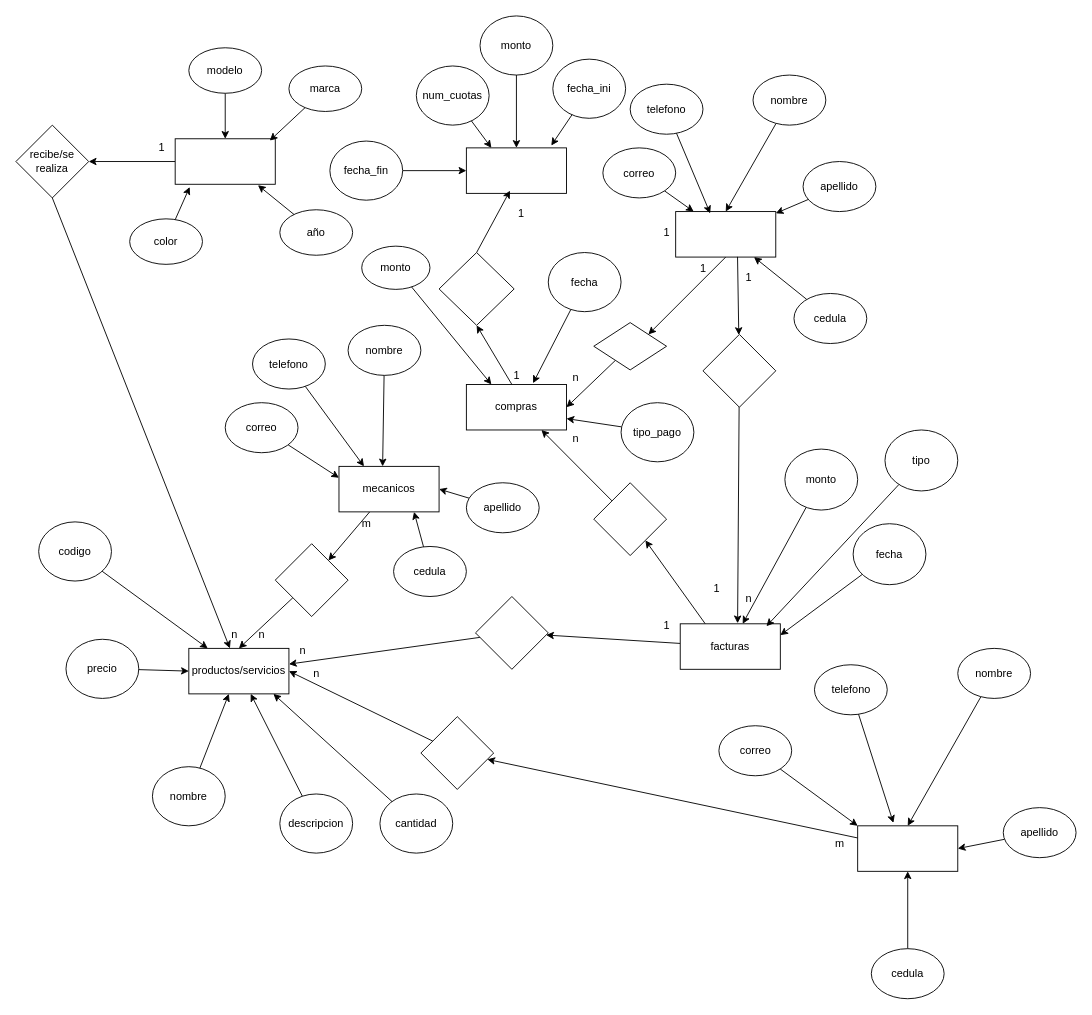
The diagram is 1092 pixels wide and 1015 high, and some of its shapes have lost their labels. Here are the shapes that lost their labels. From the top down, the centre of each, then its label:
point 224,161: automoviles
point 515,170: financiamientos
point 725,234: clientes
point 476,288: puede tener
point 630,346: hace
point 739,370: tiene
point 630,519: genera
point 311,580: realiza
point 511,632: contiene
point 457,752: vende
point 907,848: proveedores
